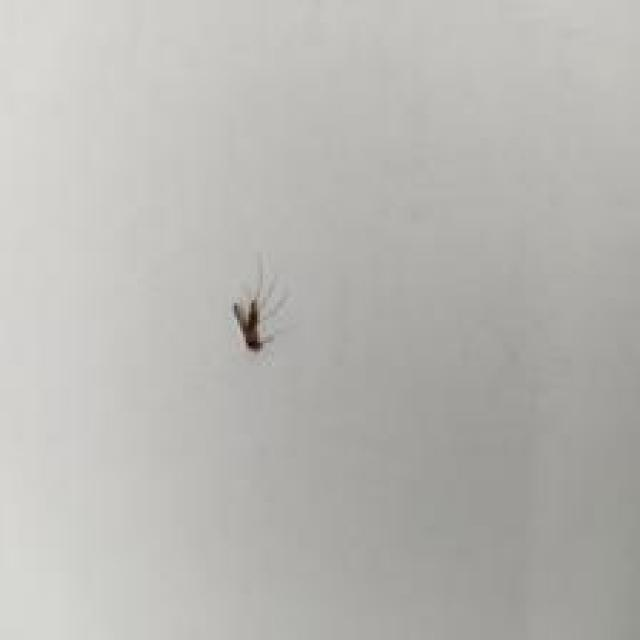Culex: (230, 253, 290, 356)
